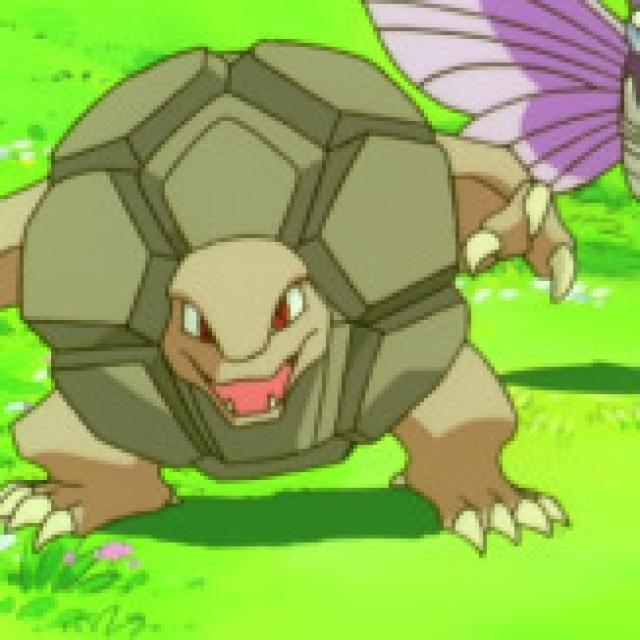Golem: (11, 51, 515, 537)
